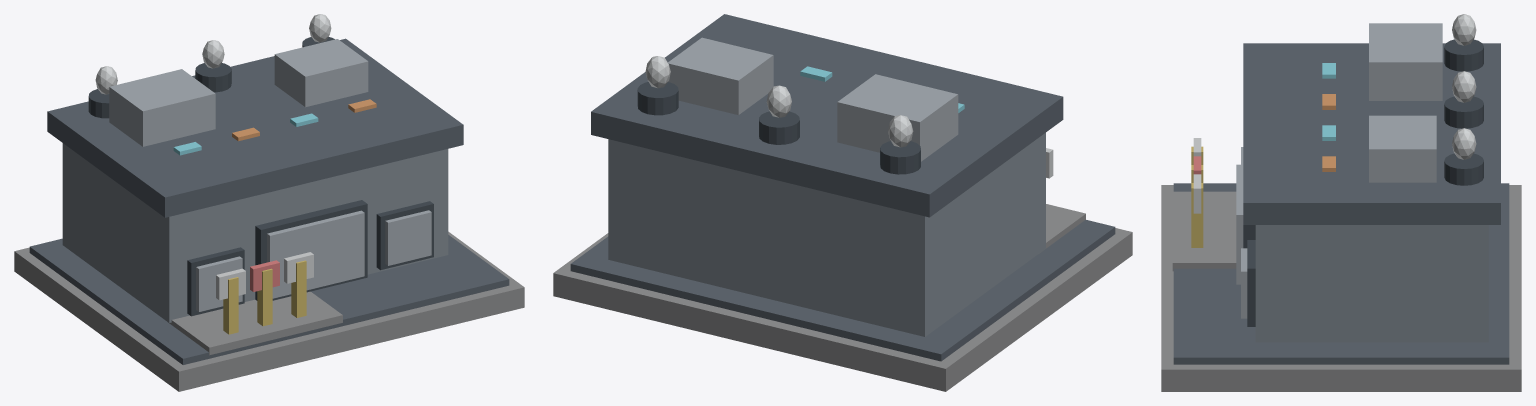
The model's file is human_barracks.glb.
3 views of the same model, side by side, from view 1: azimuth 30°, elevation 25°; view 2: azimuth 150°, elevation 25°; view 3: azimuth 270°, elevation 25° (orthographic). The views are drawn at different scales.
Parts seen in each view (by area): view 1: armored_roof, barracks_shell, foundation, foundation_top, roof_armory, main_entry_door, training_pad, roof_comms, side_door_1, main_entry_recess, side_door_-1, side_door_recess_1 (+12 smaller); view 2: barracks_shell, armored_roof, foundation, foundation_top, roof_armory, roof_comms, roof_vent_0.88, roof_vent_-0.88, roof_vent_0.0, training_pad, steam_puff_0.0, steam_puff_-0.88 (+1 smaller); view 3: armored_roof, barracks_shell, foundation_top, foundation, roof_armory, roof_comms, training_pad, roof_vent_0.88, roof_vent_-0.88, roof_vent_0.0, main_entry_door, side_door_recess_1 (+6 smaller).
Part boxes in pixels (left/top/right/bottom): armored_roof: left=47, top=38, right=463, bottom=217; barracks_shell: left=62, top=143, right=448, bottom=322; foundation: left=14, top=231, right=524, bottom=391; foundation_top: left=29, top=235, right=509, bottom=364; roof_armory: left=109, top=69, right=215, bottom=146; main_entry_door: left=267, top=210, right=364, bottom=298; training_pad: left=169, top=291, right=342, bottom=355; roof_comms: left=274, top=39, right=368, bottom=107; side_door_1: left=385, top=210, right=431, bottom=265; main_entry_recess: left=255, top=200, right=367, bottom=300; side_door_-1: left=196, top=256, right=242, bottom=311; side_door_recess_1: left=376, top=201, right=433, bottom=270; barracks_shell: left=608, top=132, right=1045, bottom=336; armored_roof: left=591, top=14, right=1063, bottom=217; foundation: left=553, top=228, right=1132, bottom=391; foundation_top: left=570, top=220, right=1115, bottom=361; roof_armory: left=837, top=74, right=958, bottom=161; roof_comms: left=668, top=37, right=773, bottom=114; roof_vent_0.88: left=637, top=82, right=678, bottom=115; roof_vent_-0.88: left=880, top=141, right=920, bottom=174; roof_vent_0.0: left=759, top=111, right=799, bottom=144; training_pad: left=1039, top=204, right=1085, bottom=253; steam_puff_0.0: left=766, top=85, right=791, bottom=117; steam_puff_-0.88: left=888, top=115, right=913, bottom=147; armored_roof: left=1243, top=43, right=1500, bottom=224; barracks_shell: left=1255, top=225, right=1488, bottom=342; foundation_top: left=1173, top=183, right=1509, bottom=364; foundation: left=1161, top=185, right=1521, bottom=391; roof_armory: left=1369, top=23, right=1442, bottom=100; roof_comms: left=1369, top=115, right=1436, bottom=182; training_pad: left=1172, top=191, right=1236, bottom=271; roof_vent_0.88: left=1444, top=153, right=1483, bottom=185; roof_vent_-0.88: left=1444, top=39, right=1483, bottom=71; roof_vent_0.0: left=1444, top=96, right=1483, bottom=128; main_entry_door: left=1236, top=164, right=1243, bottom=284; side_door_recess_1: left=1247, top=240, right=1255, bottom=326.
Bounding box in the file's own units: 2.85 × 1.64 × 2.35.
